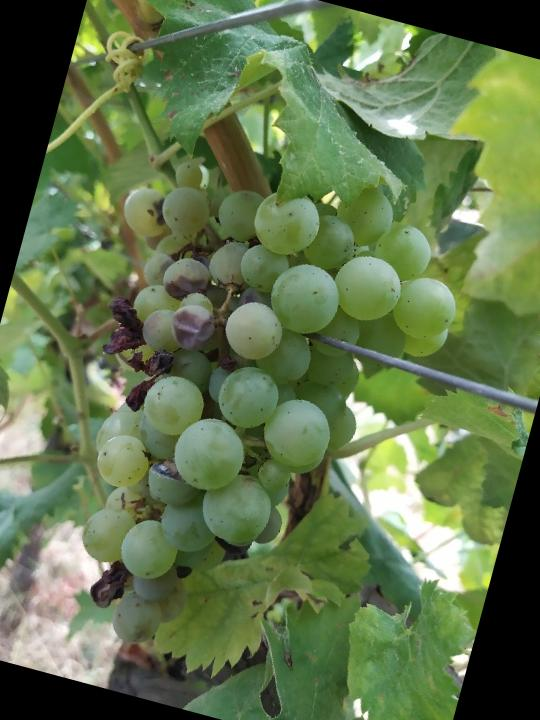grape: (12, 121, 485, 705)
